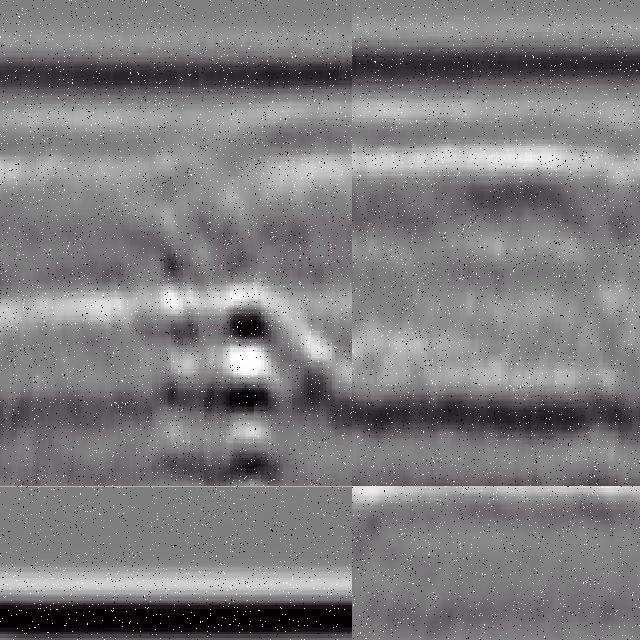loose: (149, 272, 346, 487)
